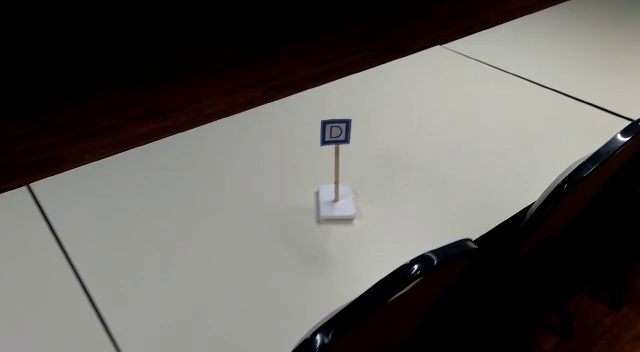durak: (321, 119, 350, 145)
